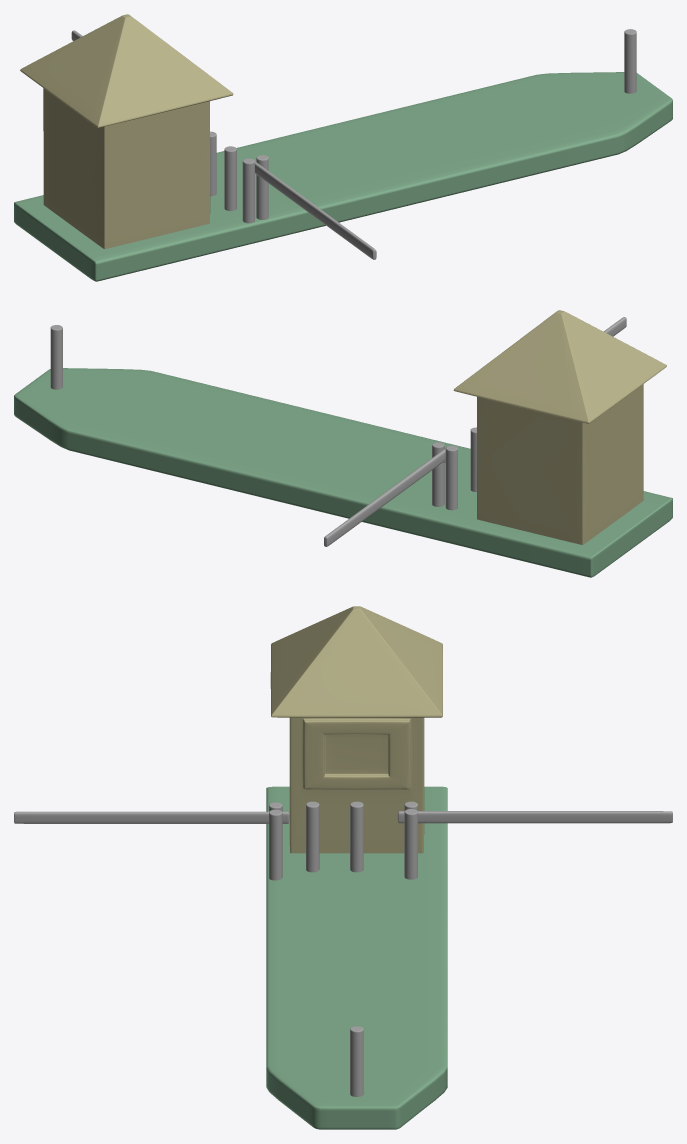
Rendered from BARRIEREV2.fbx.
3 views of the same model, one above another, from view 1: azimuth 30°, elevation 25°; view 2: azimuth 150°, elevation 25°; view 3: azimuth 270°, elevation 25° (orthographic). The views are drawn at different scales.
Visible parts, largest first — view 1: pCube1, pCube2, pCube4, pCylinder5, pCylinder3, pCylinder1, pCylinder4, pCylinder2; view 2: pCube1, pCube2, pCube3, pCylinder7, pCylinder1, pCylinder8, pCylinder2; view 3: pCube1, pCube2, pCube4, pCube3, pCylinder2, pCylinder4, pCylinder3, pCylinder8, pCylinder1.
Part boxes in pixels (x1,y1,x2,y2): pCube1: [14, 72, 672, 281]; pCube2: [20, 14, 233, 249]; pCube4: [250, 158, 376, 259]; pCylinder5: [242, 158, 254, 223]; pCylinder3: [224, 146, 236, 210]; pCylinder1: [624, 29, 636, 93]; pCylinder4: [256, 155, 268, 219]; pCylinder2: [210, 131, 216, 196]; pCube1: [14, 368, 672, 577]; pCube2: [453, 310, 666, 544]; pCube3: [324, 445, 449, 546]; pCylinder7: [445, 445, 457, 510]; pCylinder1: [50, 325, 62, 389]; pCylinder8: [432, 442, 444, 506]; pCylinder2: [470, 427, 476, 491]; pCube1: [266, 786, 447, 1129]; pCube2: [270, 606, 442, 853]; pCube4: [14, 811, 289, 823]; pCube3: [397, 811, 672, 823]; pCylinder2: [350, 801, 363, 872]; pCylinder4: [269, 809, 282, 880]; pCylinder3: [306, 801, 319, 872]; pCylinder8: [404, 809, 417, 879]; pCylinder1: [350, 1026, 363, 1096].
Size of the model in its own units: 19.29 by 6.73 by 16.72.
